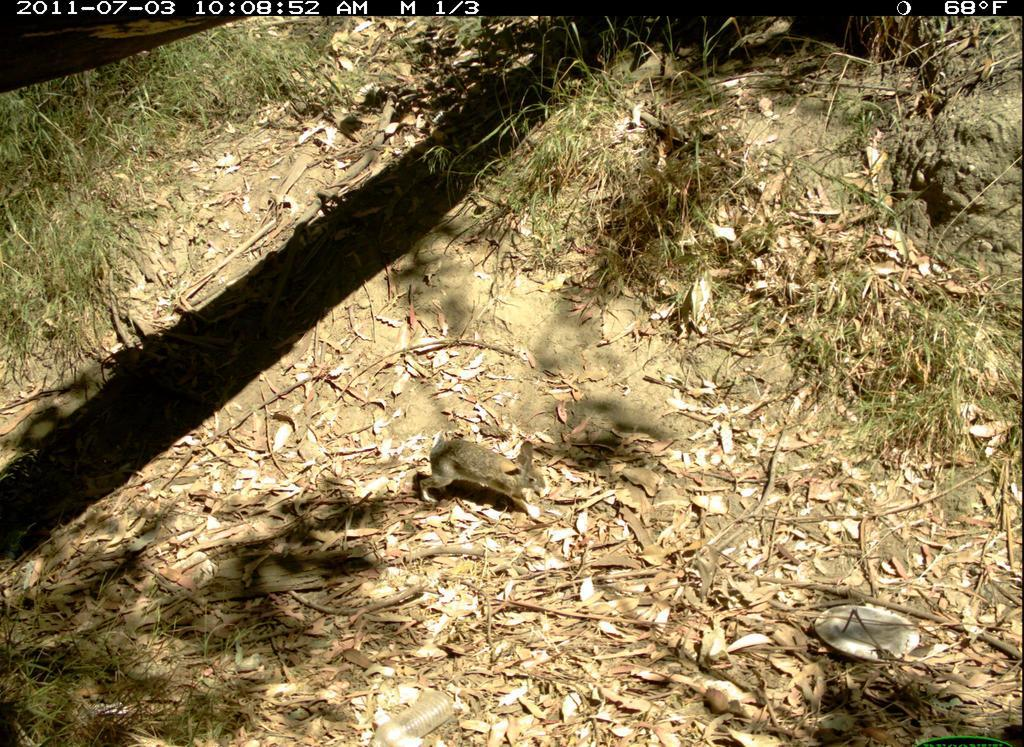rabbit: (391, 429, 585, 541)
